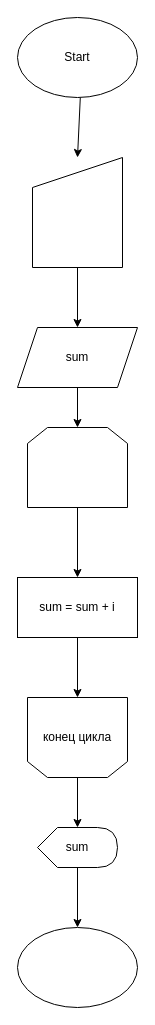
Some shapes in this 155 by 1025 pixel diagram are drawn without their labels. The centre of each missing label's shape, as x and y in pixels:
"Finish" goes at (77,967).
"for i in range(1, n)" goes at (77,467).
"Введите число N" goes at (77,212).
